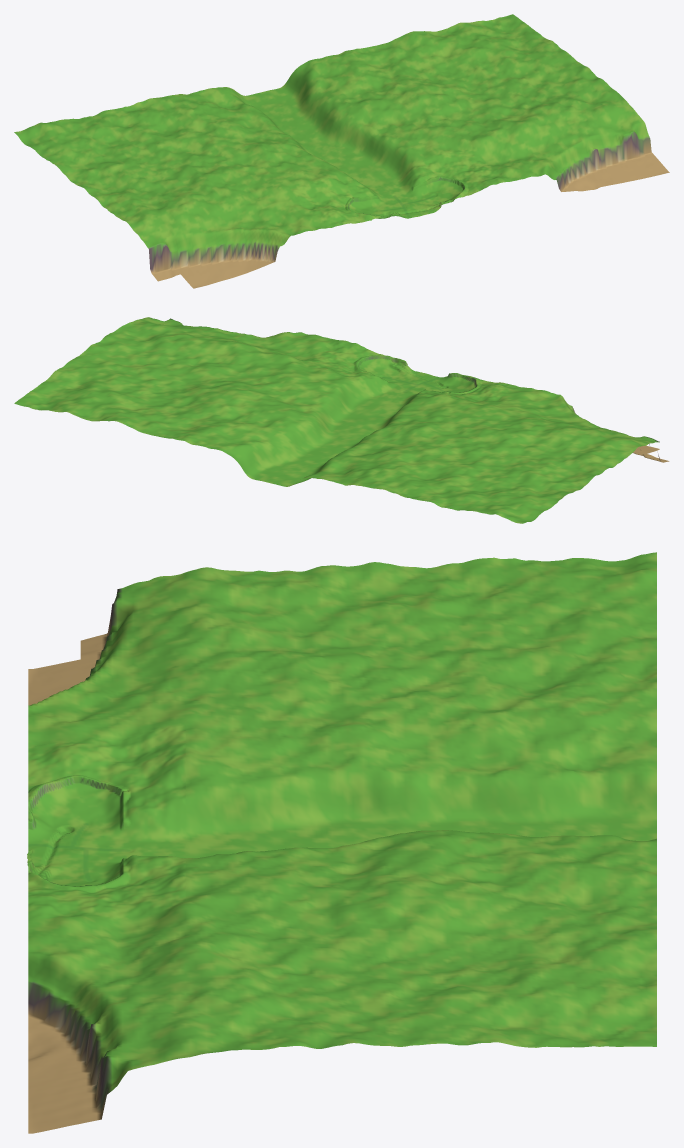
File: terrain.glb
The picture shows the model from 3 angles, top to bottom: view 1: azimuth 30°, elevation 25°; view 2: azimuth 150°, elevation 25°; view 3: azimuth 270°, elevation 25°; orthographic projection. The views are drawn at different scales.
Parts seen in each view (by area): view 1: terrain_0_2, terrain_4_2, terrain_1_2, terrain_3_2, terrain_3_1, terrain_4_0, terrain_3_0, terrain_0_0, terrain_1_0, terrain_0_1, terrain_1_1, terrain_2_2 (+6 smaller); view 2: terrain_3_0, terrain_0_1, terrain_4_1, terrain_3_1, terrain_3_2, terrain_1_1, terrain_1_0, terrain_4_0, terrain_0_0, terrain_2_0, terrain_2_1, terrain_2_2 (+6 smaller); view 3: terrain_2_2, terrain_4_2, terrain_2_1, terrain_2_0, terrain_1_0, terrain_1_1, terrain_4_1, terrain_0_0, terrain_0_1, terrain_4_0, terrain_1_2, terrain_3_0 (+6 smaller).
Part boxes in pixels (x1,y1,x2,y2): terrain_0_2: (119, 193, 261, 288); terrain_4_2: (482, 102, 624, 191); terrain_1_2: (210, 172, 351, 266); terrain_3_2: (391, 128, 533, 204); terrain_3_1: (339, 84, 480, 166); terrain_4_0: (377, 22, 519, 84); terrain_3_0: (286, 45, 428, 110); terrain_0_0: (14, 110, 156, 176); terrain_1_0: (105, 92, 247, 153); terrain_0_1: (66, 154, 208, 217); terrain_1_1: (157, 133, 299, 192); terrain_2_2: (300, 167, 443, 223); terrain_3_0: (153, 397, 298, 473); terrain_0_1: (484, 429, 629, 490); terrain_4_1: (114, 337, 258, 397); terrain_3_1: (206, 364, 351, 423); terrain_3_2: (260, 334, 404, 403); terrain_1_1: (392, 408, 536, 467); terrain_1_0: (338, 447, 483, 501); terrain_4_0: (60, 374, 205, 435); terrain_0_0: (431, 468, 575, 523); terrain_2_0: (245, 423, 390, 486); terrain_2_1: (299, 403, 444, 451); terrain_2_2: (352, 360, 497, 414); terrain_2_2: (27, 744, 237, 875); terrain_4_2: (28, 920, 237, 1087); terrain_2_1: (238, 737, 447, 852); terrain_2_0: (447, 738, 656, 840); terrain_1_0: (447, 642, 656, 744); terrain_1_1: (238, 651, 447, 746); terrain_4_1: (238, 910, 447, 1010); terrain_0_0: (447, 552, 656, 651); terrain_0_1: (238, 562, 447, 654); terrain_4_0: (447, 910, 656, 1001); terrain_1_2: (28, 653, 237, 770); terrain_3_0: (447, 830, 656, 915).
Size of the model in its own units: 990 by 96.08 by 541.
